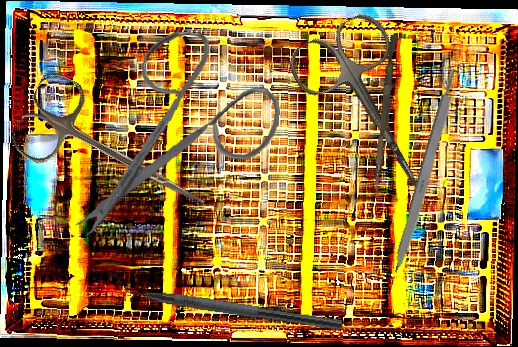Chopper: (107, 270, 347, 332)
Iris Scissors: (74, 23, 286, 255), (282, 6, 463, 219), (6, 67, 227, 239)
Pusher: (373, 34, 398, 192)
Scalpel Handle: (390, 66, 464, 276)
